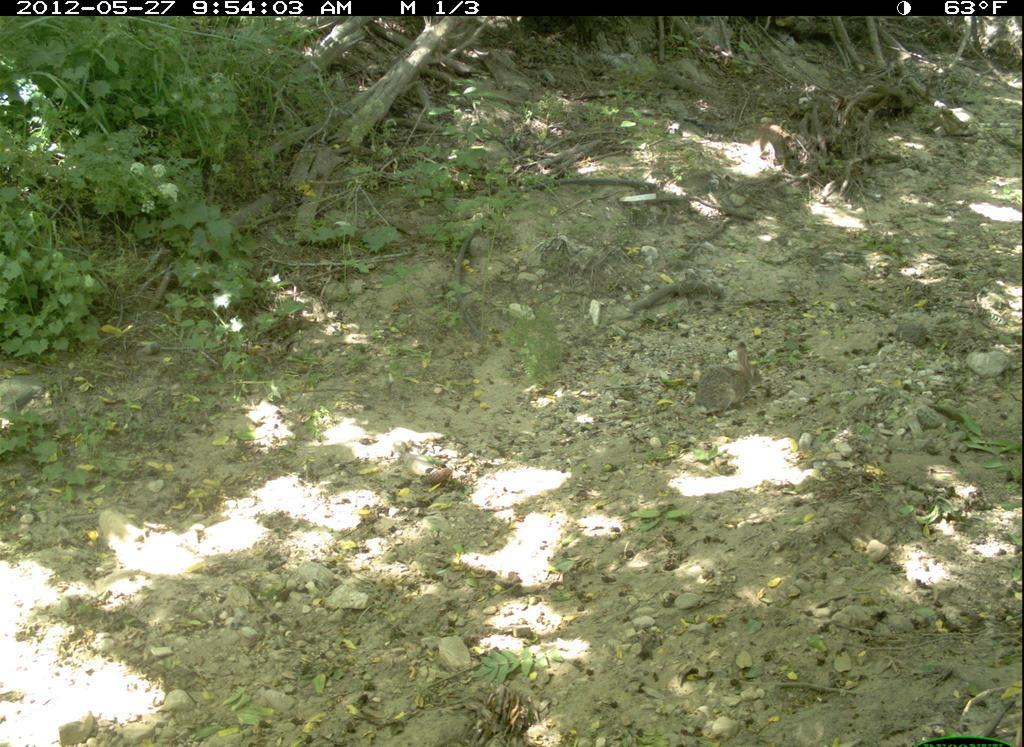rabbit: (693, 338, 769, 421)
